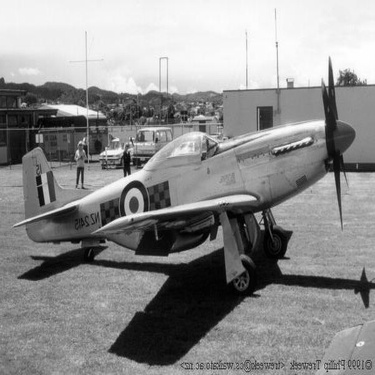airplane: (5, 49, 361, 298)
car: (95, 131, 131, 170)
